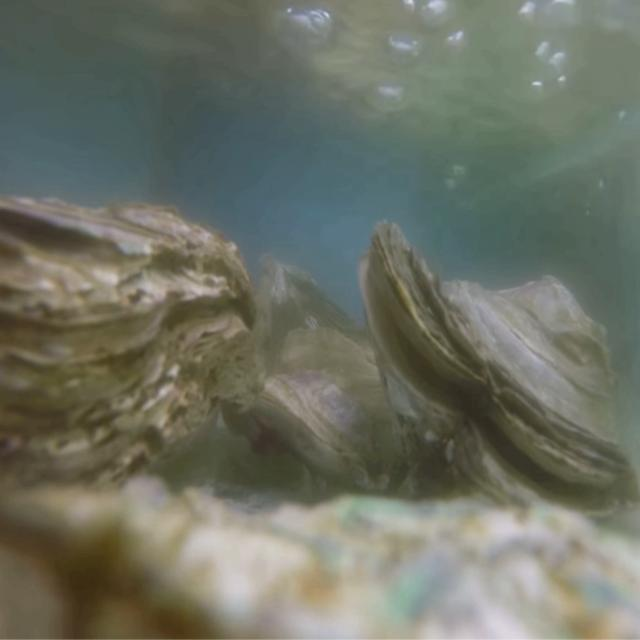Oyster-Closed: (0, 194, 256, 525), (253, 328, 418, 504)
Oyster-Indeterminate: (0, 475, 640, 640)
Oyster-Open: (359, 218, 640, 534)
